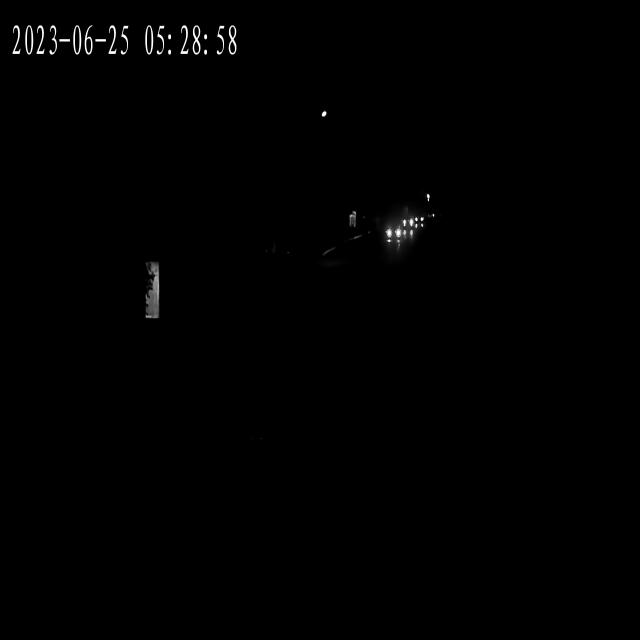Car: (384, 222, 402, 250), (403, 224, 417, 242), (404, 212, 416, 233), (414, 213, 426, 230)
